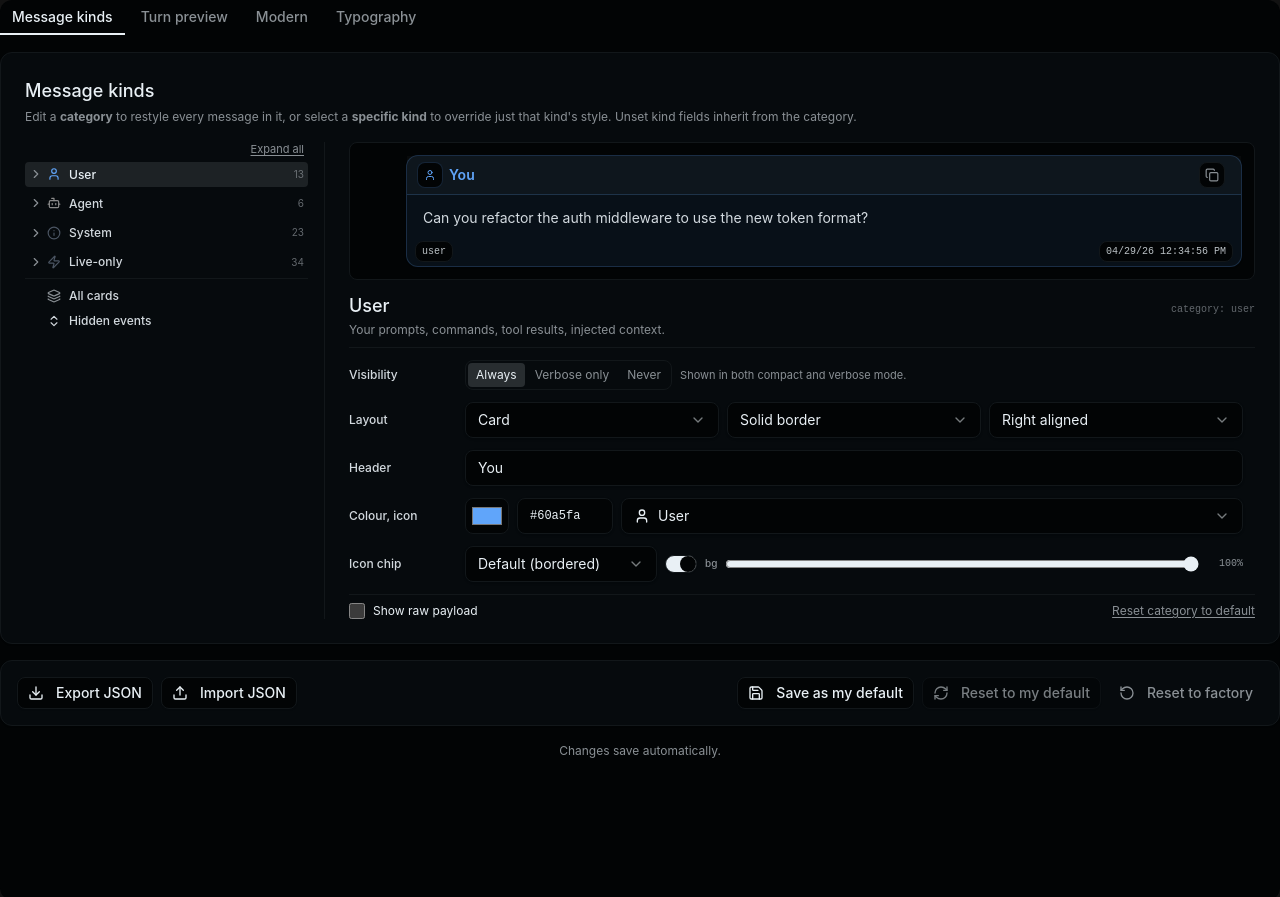
Test: AppearanceSettings — category + kind tree › opens a kind editor with a reset affordance when a kind is selected
Click the button "Expand all": (277, 150) [250, 142, 304, 158]
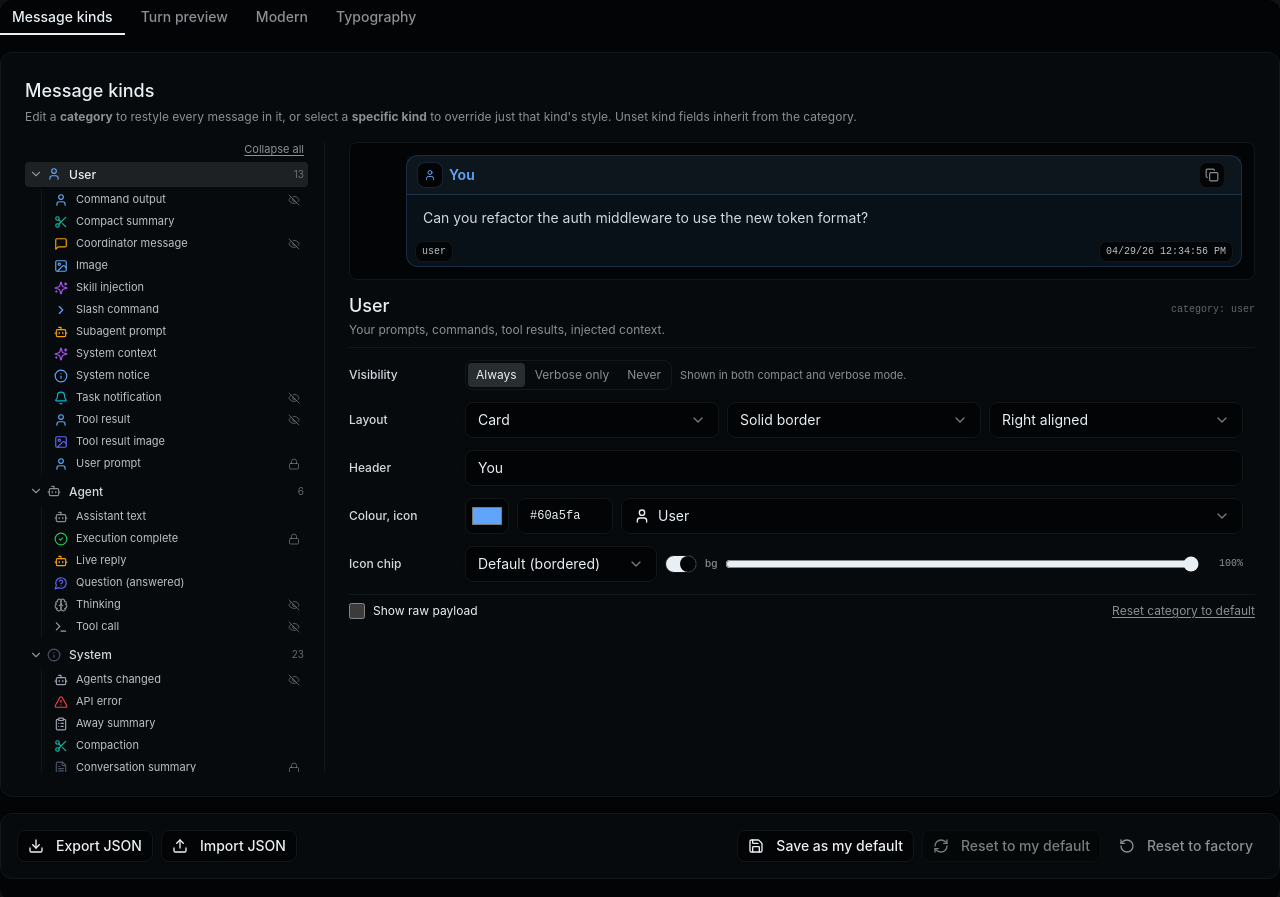
Click the button "Execution complete": (167, 539) [54, 532, 280, 546]
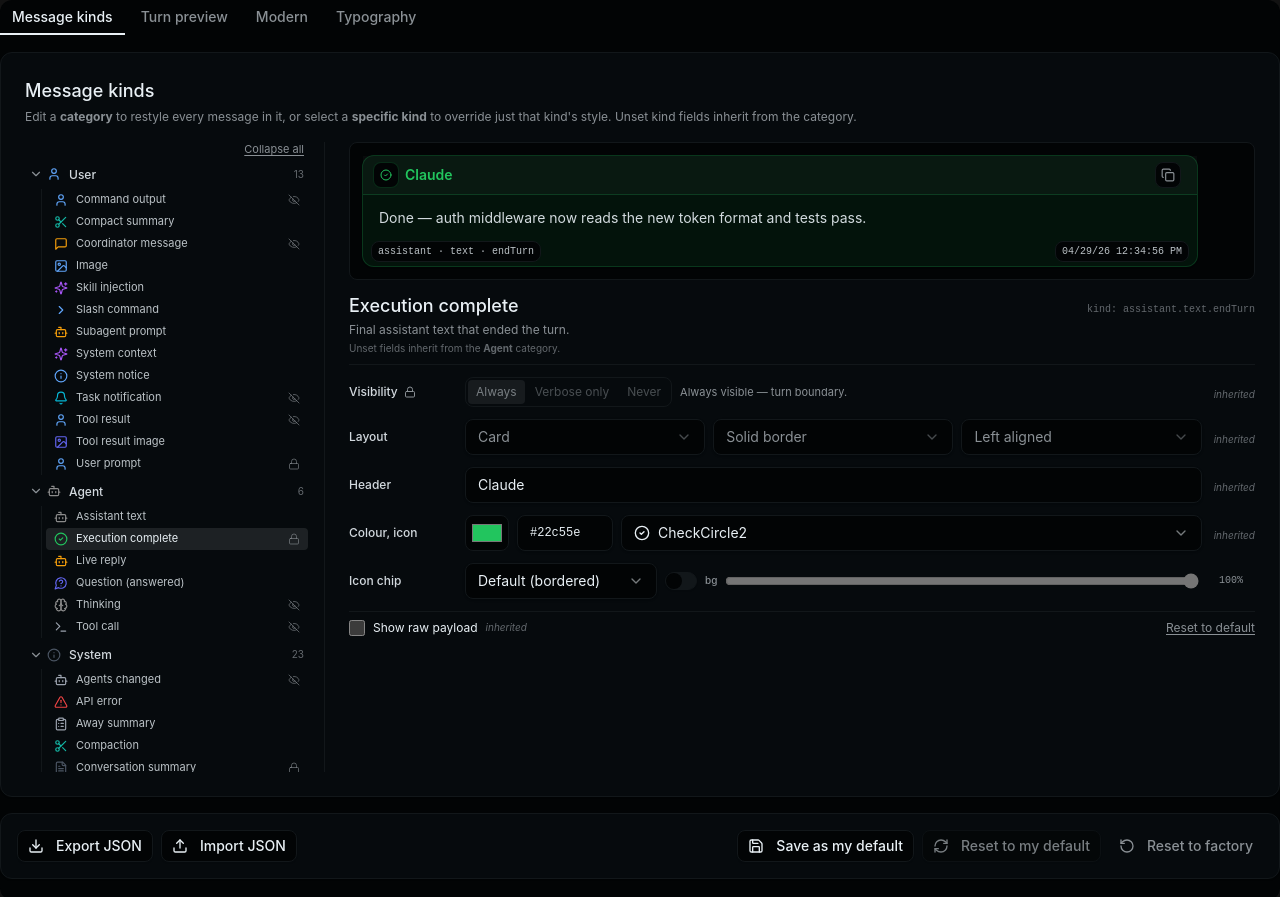
Check: the button "Reset to default" is shown, box [1166, 620, 1255, 636]
